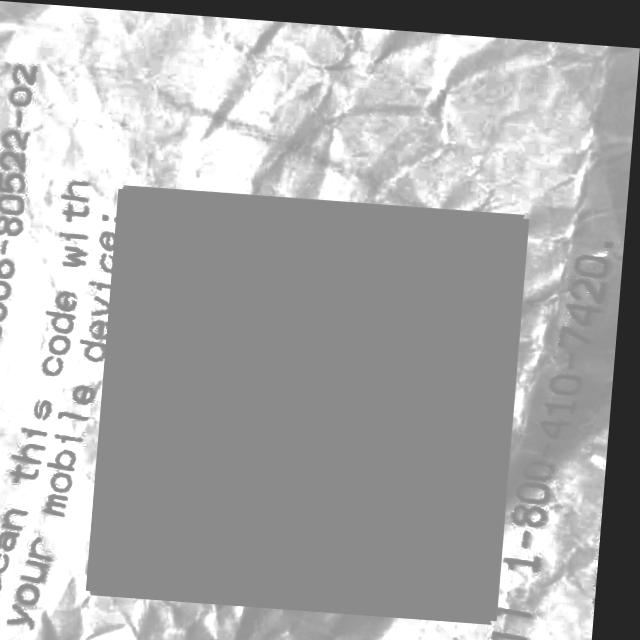qr_code: (98, 184, 530, 614)
